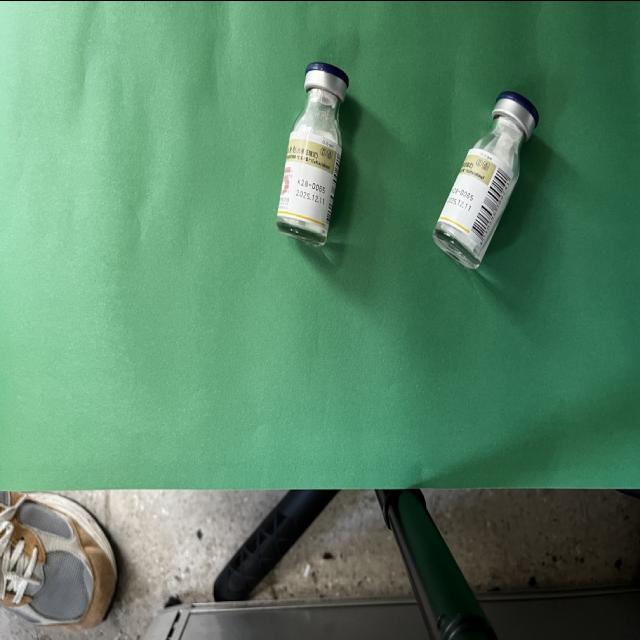Ampoules: (276, 61, 349, 245)
Vials: (432, 89, 540, 269)
